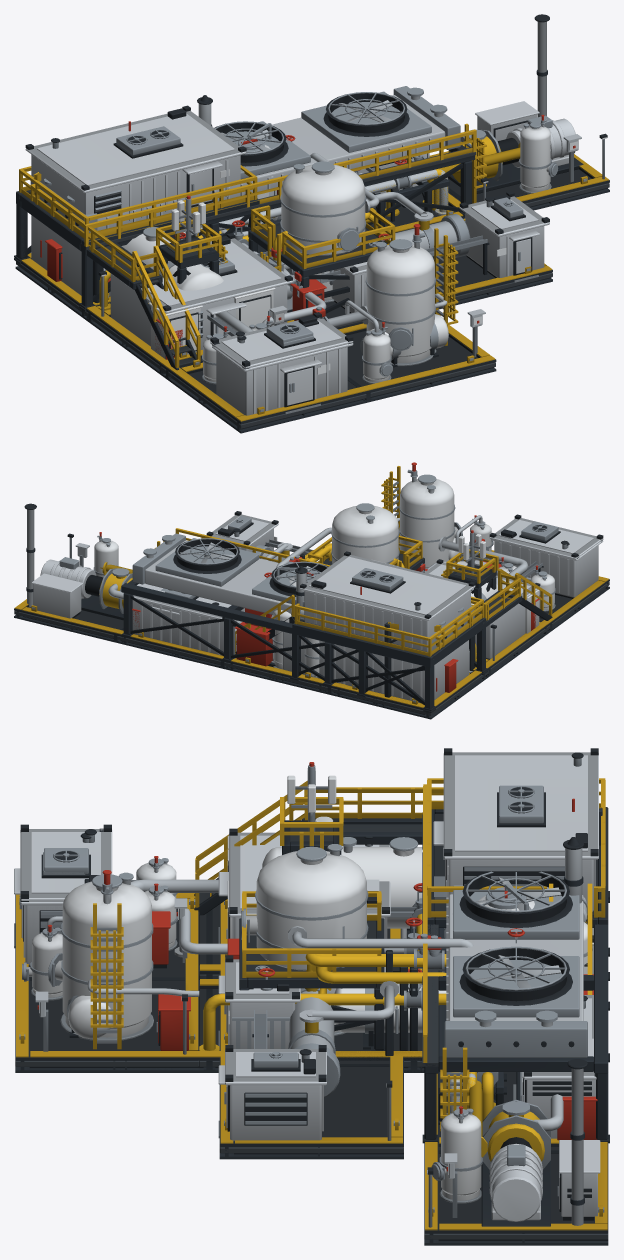
Rendered from pieces_v2.glb.
The picture shows the model from 3 angles, top to bottom: view 1: azimuth 30°, elevation 25°; view 2: azimuth 150°, elevation 25°; view 3: azimuth 270°, elevation 25°; orthographic projection. The views are drawn at different scales.
Parts seen in each view (by area): view 1: piece_L, piece_I4, piece_T, piece_J, piece_O, piece_Z, piece_V, piece_I3, piece_S; view 2: piece_I4, piece_T, piece_L, piece_I3, piece_O, piece_J, piece_V, piece_Z, piece_S; view 3: piece_I4, piece_T, piece_L, piece_Z, piece_J, piece_O, piece_S, piece_V, piece_I3.
Boxes of the visible parts, x1,y1,x2,y2 form: piece_L: (17,184,496,433); piece_I4: (14,14,609,309); piece_T: (14,105,463,321); piece_J: (171,123,489,427); piece_O: (16,95,366,375); piece_Z: (108,161,552,320); piece_V: (31,121,277,371); piece_I3: (15,168,465,319); piece_S: (95,135,429,371); piece_I4: (14,503,487,716); piece_T: (132,503,487,712); piece_L: (337,462,609,717); piece_I3: (121,588,486,719); piece_O: (228,559,548,718); piece_J: (231,514,605,691); piece_V: (245,530,545,702); piece_Z: (206,511,471,673); piece_S: (129,544,543,689); piece_I4: (422,784,609,1245); piece_T: (219,748,609,1140); piece_L: (14,780,443,1072); piece_Z: (218,935,446,1159); piece_J: (14,824,534,1072); piece_O: (218,828,593,1072); piece_S: (218,913,595,1138); piece_V: (219,762,574,967); piece_I3: (424,805,608,1147).
Size of the model in its own units: 3.91 by 0.996 by 2.91.
